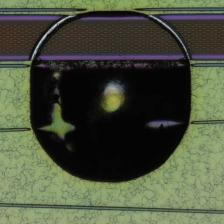PO CONTAMINATION: (16, 1, 204, 192)
